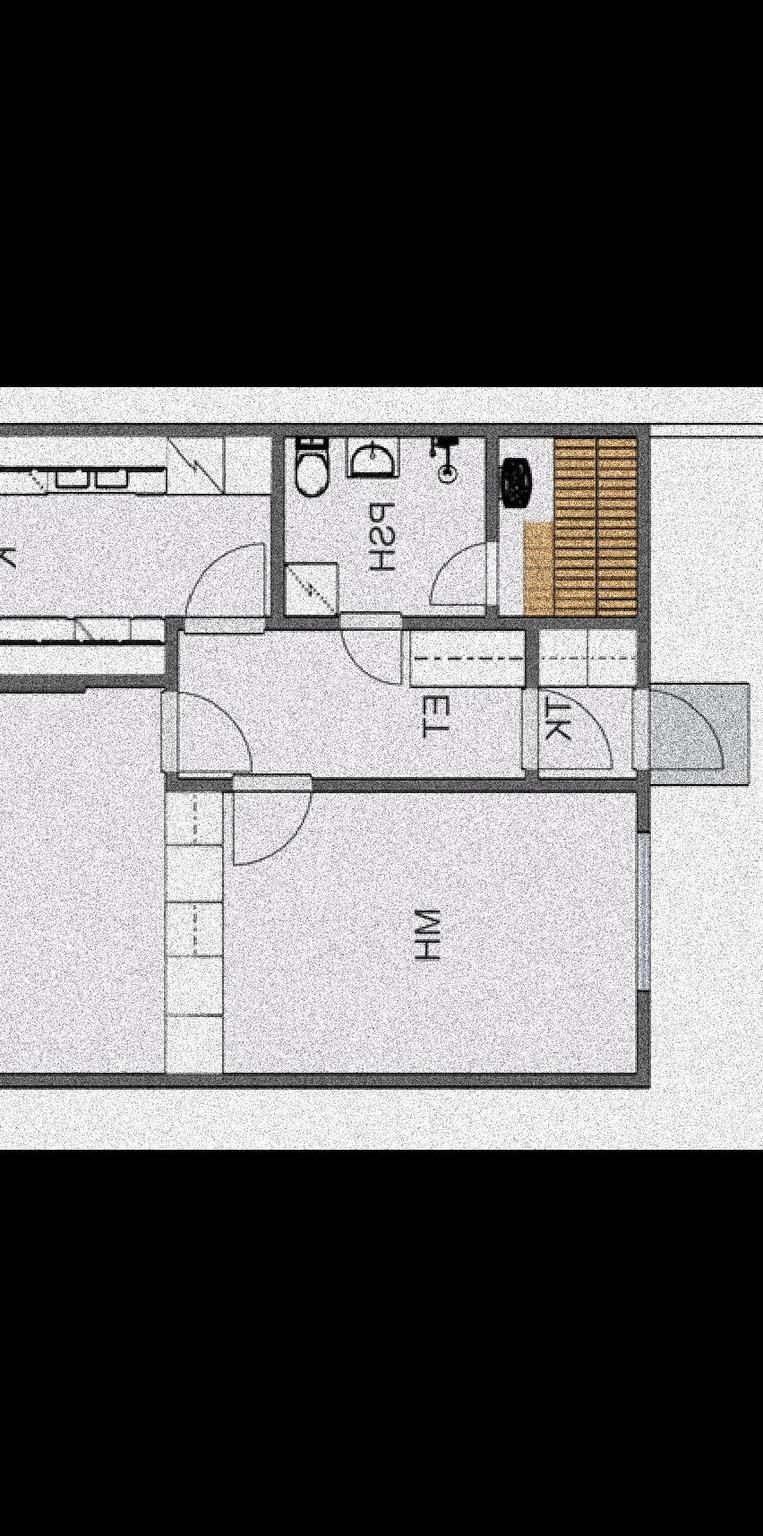door: (232, 772, 326, 870), (153, 685, 254, 772), (189, 530, 268, 641), (634, 688, 734, 774), (519, 689, 614, 771), (326, 613, 414, 693), (424, 541, 509, 609)
window: (634, 838, 660, 993)
zone: (171, 790, 634, 1075), (0, 438, 270, 678), (0, 689, 163, 1074), (178, 634, 523, 781), (284, 436, 483, 617), (503, 444, 637, 621), (539, 635, 637, 778)
